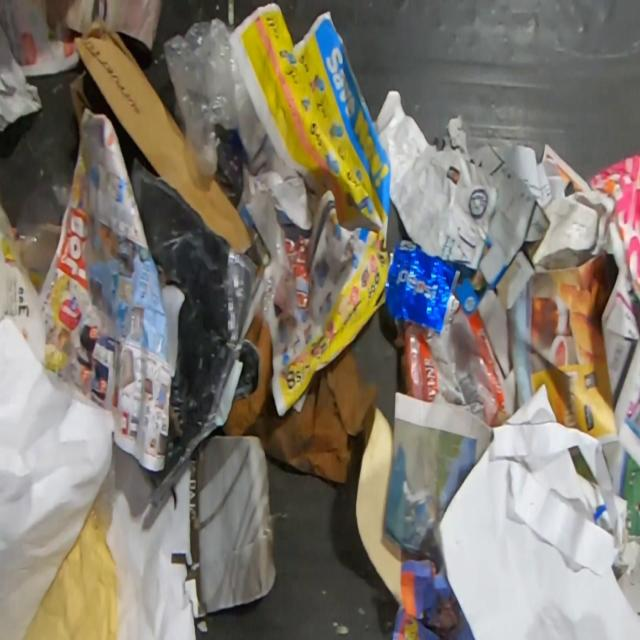cardboard: (67, 16, 253, 256), (227, 314, 376, 484)
metal: (384, 239, 460, 334)
rigid_plastic: (87, 455, 116, 529)
soft_plastic: (161, 12, 251, 179), (402, 311, 504, 428), (13, 183, 69, 273)
